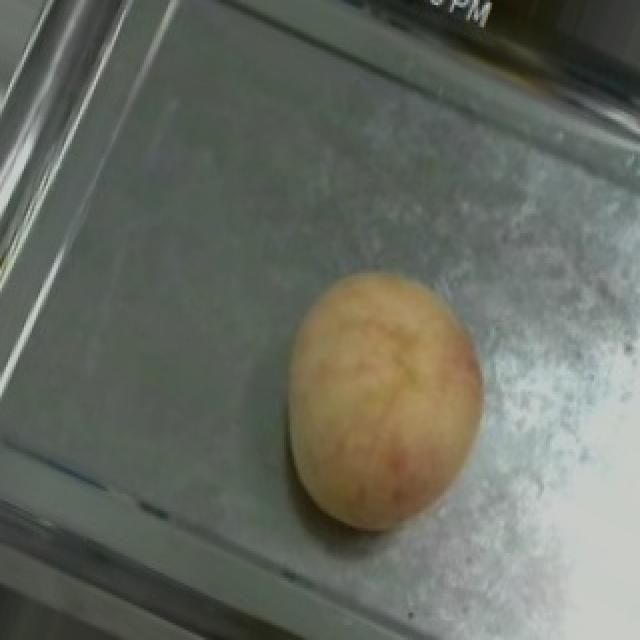Fruit: (232, 228, 534, 573)
